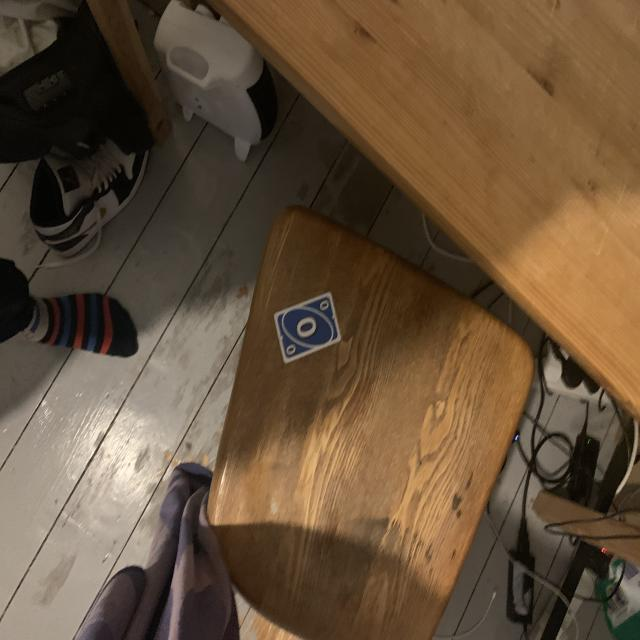lblue-0: (316, 298, 331, 314)
